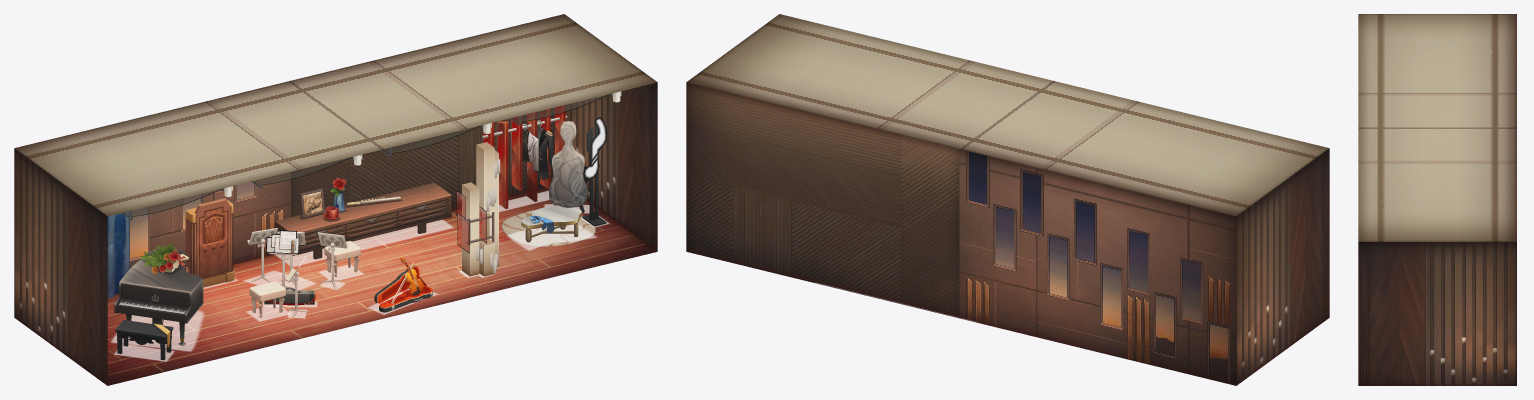
Rendered from concertHall.glb.
3 renders of one model, left to right at view 1: azimuth 30°, elevation 25°; view 2: azimuth 150°, elevation 25°; view 3: azimuth 270°, elevation 25°, orthographic. The views are drawn at different scales.
Parts seen in each view (by area): view 1: ROOM_room, ROOM_floor, furni_concertHall_cabinet_01, furni_concertHall_pianoKit_01, furni_concertHall_clothesStand_01, furni_concertHall_decoration_01, furni_concertHall_soundSystem_01, furni_concertHall_celloCase_01, furni_concertHall_screen_01, furni_concertHall_violinCase_01, furni_concertHall_carpet_01, ROOM_LDoor (+20 smaller); view 2: ROOM_room, ROOM_LDoor; view 3: ROOM_room, ROOM_RDoor.
Part boxes in pixels (x1,y1,x2,y2): ROOM_room: (14,14,657,385); ROOM_floor: (107,188,657,385); furni_concertHall_cabinet_01: (275,182,451,259); furni_concertHall_pianoKit_01: (114,246,203,360); furni_concertHall_clothesStand_01: (482,105,567,208); furni_concertHall_decoration_01: (460,142,500,276); furni_concertHall_soundSystem_01: (185,198,234,287); furni_concertHall_celloCase_01: (549,121,588,212); furni_concertHall_screen_01: (107,211,129,298); furni_concertHall_violinCase_01: (374,257,432,312); furni_concertHall_carpet_01: (501,210,595,246); ROOM_LDoor: (74,285,93,375); ROOM_room: (686,14,1329,385); ROOM_LDoor: (1297,251,1315,341); ROOM_room: (1358,14,1516,385); ROOM_RDoor: (1381,320,1414,385).
Size of the model in its own units: 7.49 by 2.2 by 2.24.
Materials: 8 (8 with a texture image).
